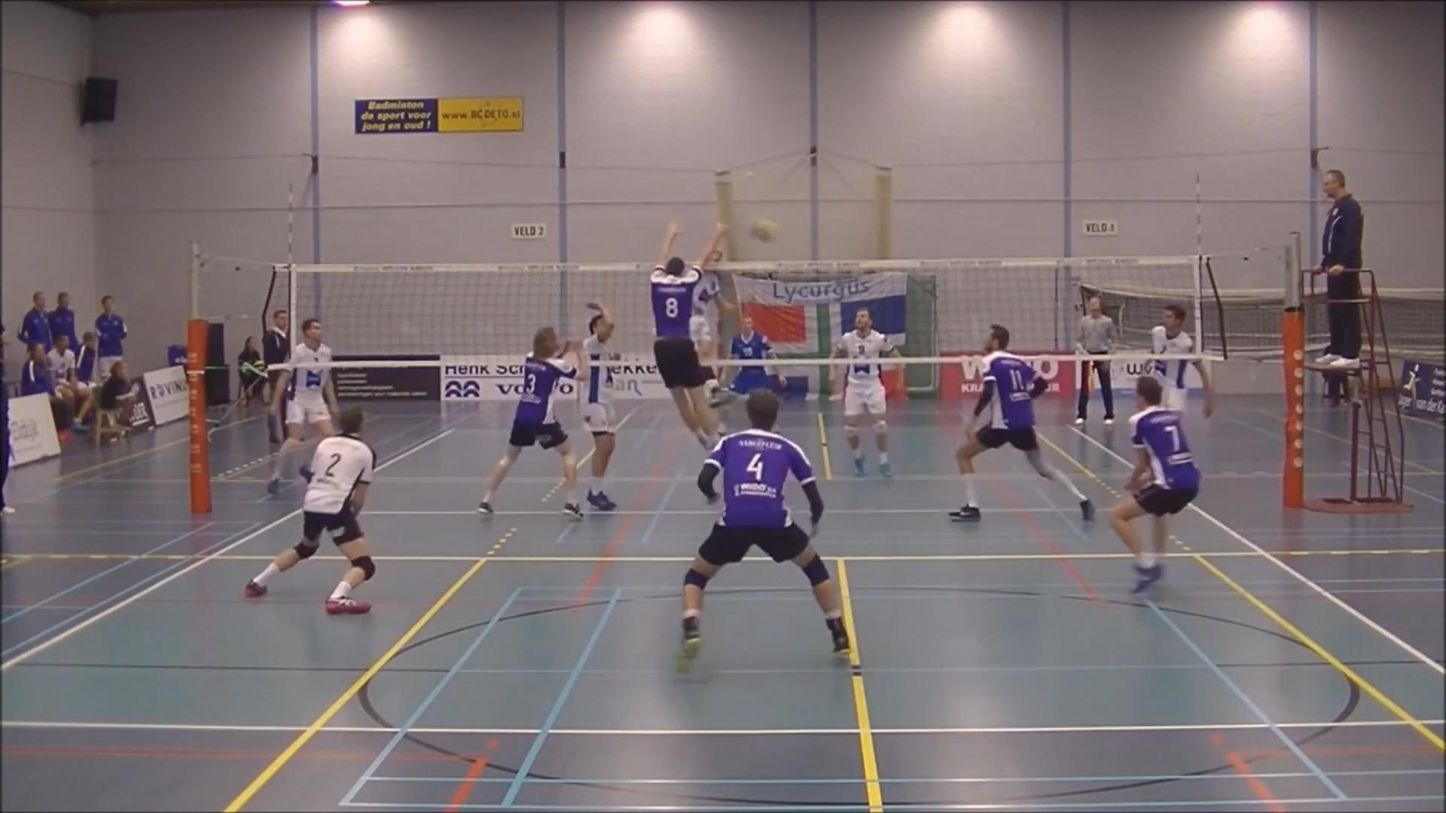attacco: (680, 240, 731, 398)
muro: (618, 215, 738, 510)
